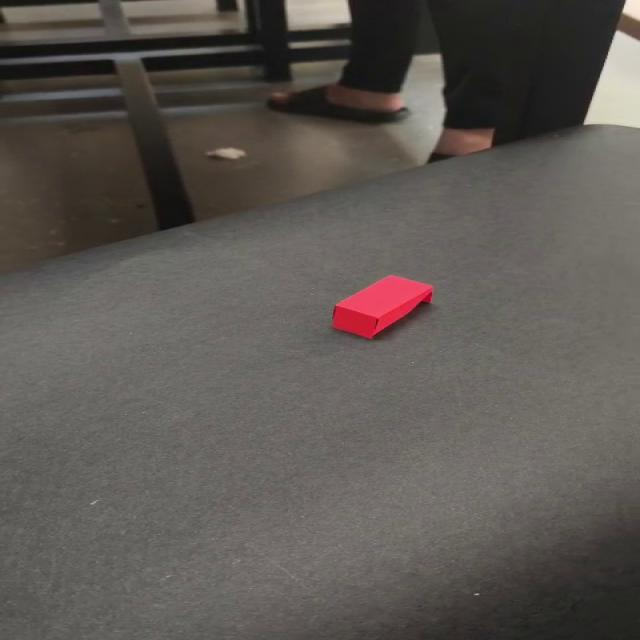red block: (331, 274, 433, 339)
